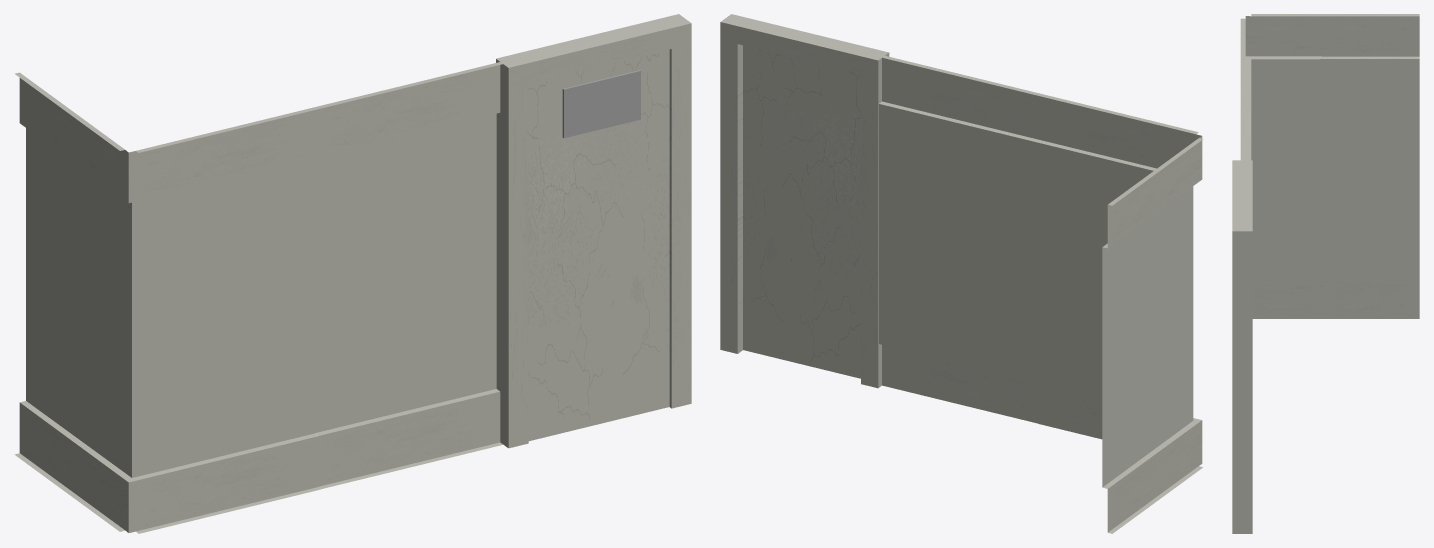
File: bathroom.fbx
3 renders of one model, left to right at view 1: azimuth 30°, elevation 25°; view 2: azimuth 150°, elevation 25°; view 3: azimuth 270°, elevation 25°, orthographic. The views are drawn at different scales.
Parts seen in each view (by area): view 1: bathroom_side_wall, bathroom_wall, bathroom_door, bathroomdoor; view 2: bathroom_side_wall, bathroom_wall, bathroom_door, bathroomdoor; view 3: bathroom_side_wall, bathroomdoor, bathroom_wall.
Boxes of the visible parts, box(x1,y1,x2,y2) form: bathroom_side_wall: box(14, 72, 321, 533); bathroom_wall: box(315, 61, 504, 488); bathroom_door: box(528, 49, 669, 441); bathroomdoor: box(496, 14, 691, 448); bathroom_side_wall: box(1035, 94, 1202, 533); bathroom_wall: box(879, 55, 1040, 423); bathroom_door: box(743, 45, 860, 378); bathroomdoor: box(720, 14, 889, 388); bathroom_side_wall: box(1240, 14, 1419, 318); bathroomdoor: box(1232, 160, 1252, 533); bathroom_wall: box(1240, 89, 1251, 160).
Size of the model in its own units: 9.24 by 6.01 by 3.36.
